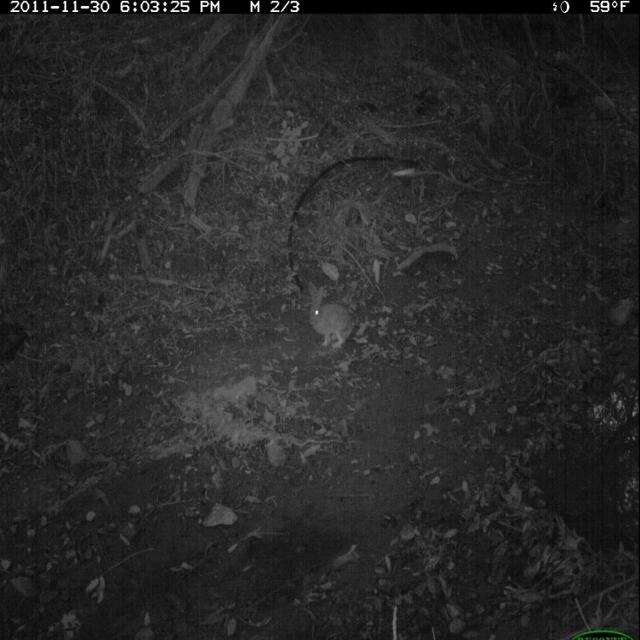rabbit: (306, 281, 357, 354)
